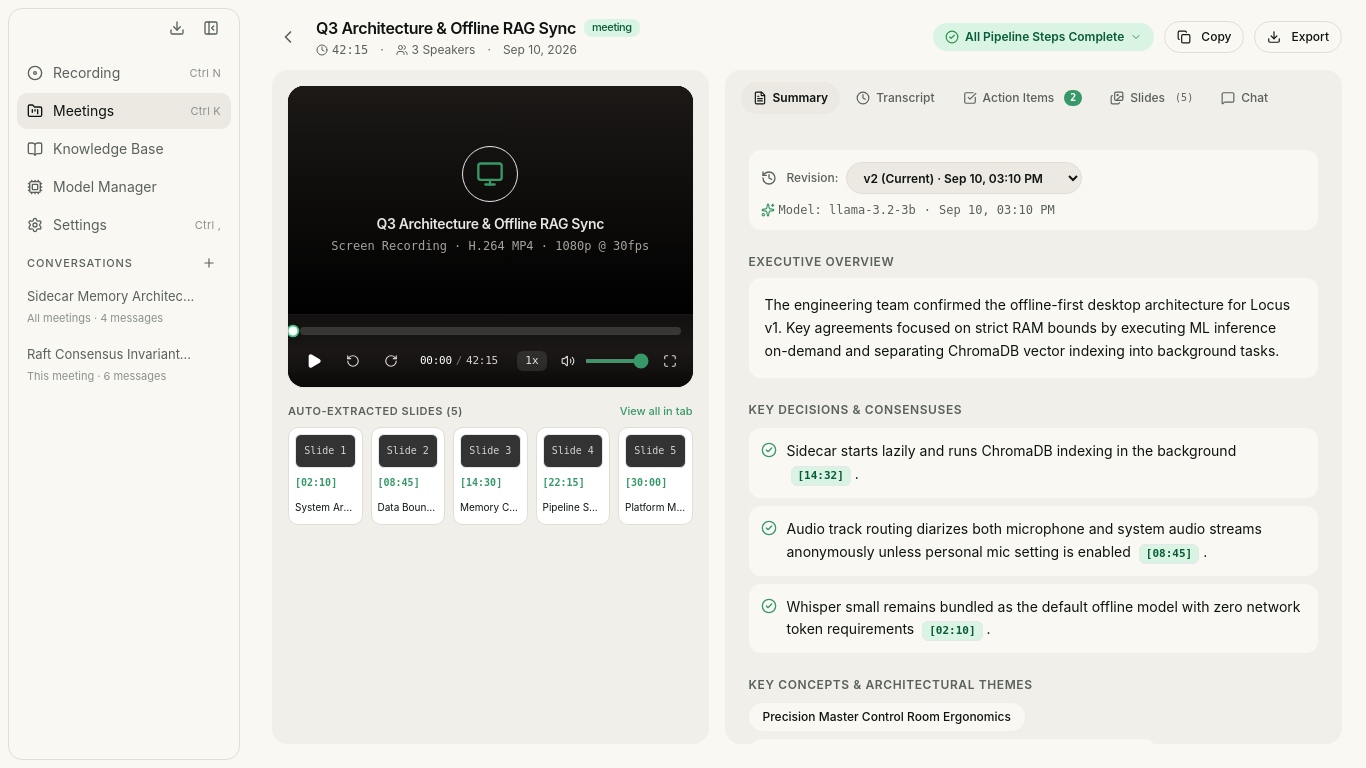
Test: Round 5: Meeting Detail responds to window size › makes the transcript feed the only scroller on the transcript tab, other tabs scroll their panel
This screenshot has width=1366, height=768.
Click the button "Transcript" at coordinates (895, 98), box [844,82,947,114]
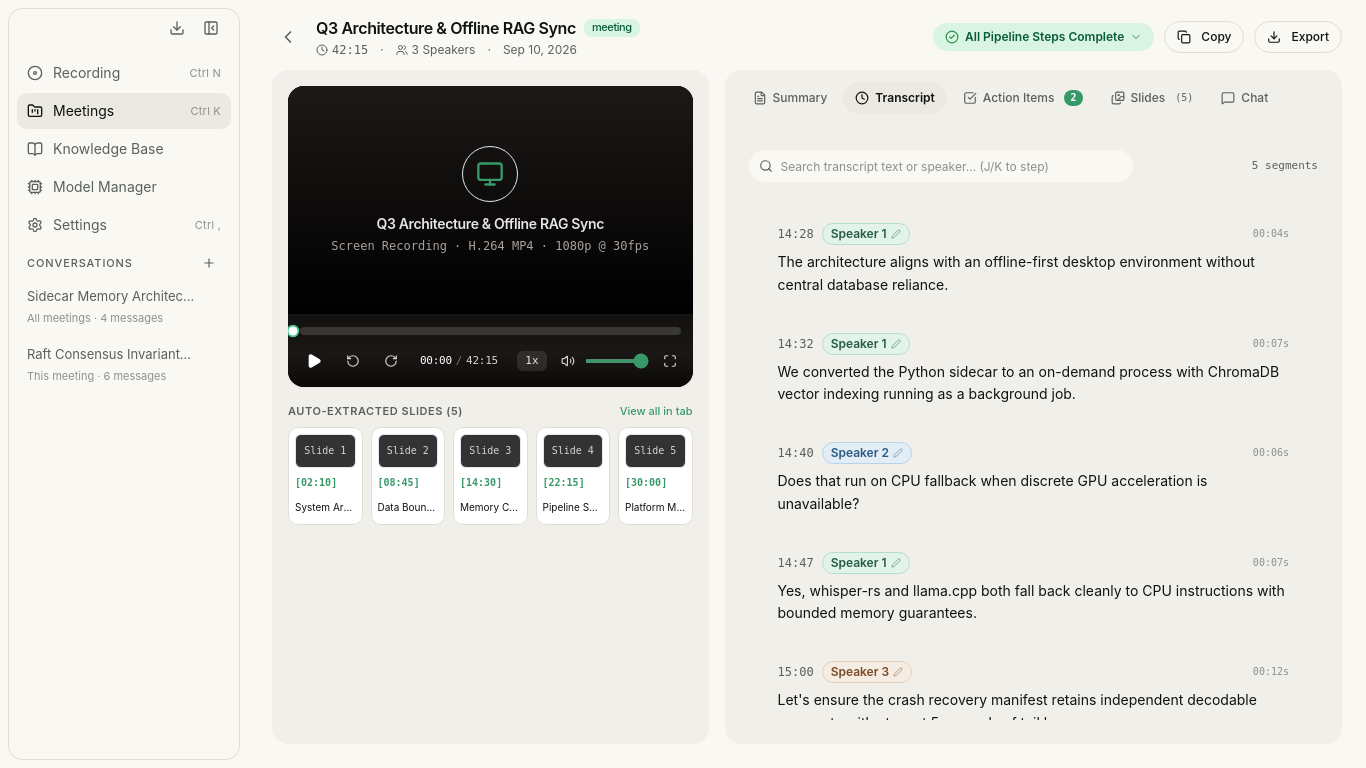
Check: the element named "Synchronized meeting transcript" is shown, box [748,194,1318,720]
